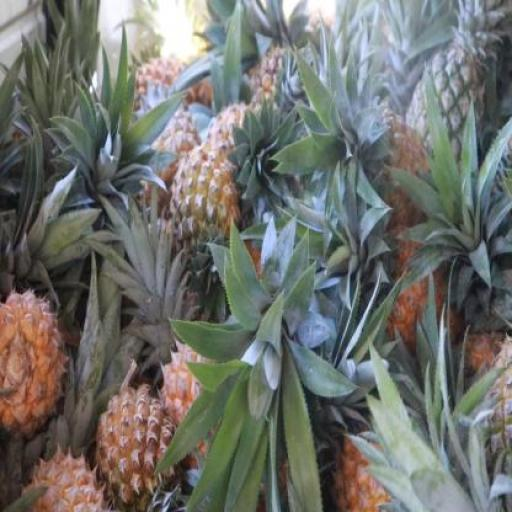------------------------------: (170, 140, 237, 274)
Pineapple - v8 v1: (0, 291, 70, 429), (97, 386, 173, 509)
